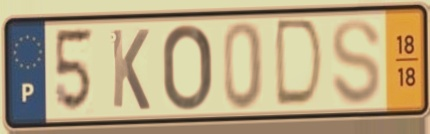0: (220, 18, 266, 114)
5: (51, 26, 96, 117)
D: (272, 16, 328, 112)
K: (109, 26, 153, 114)
O: (160, 21, 215, 114)
S: (329, 15, 384, 109)
